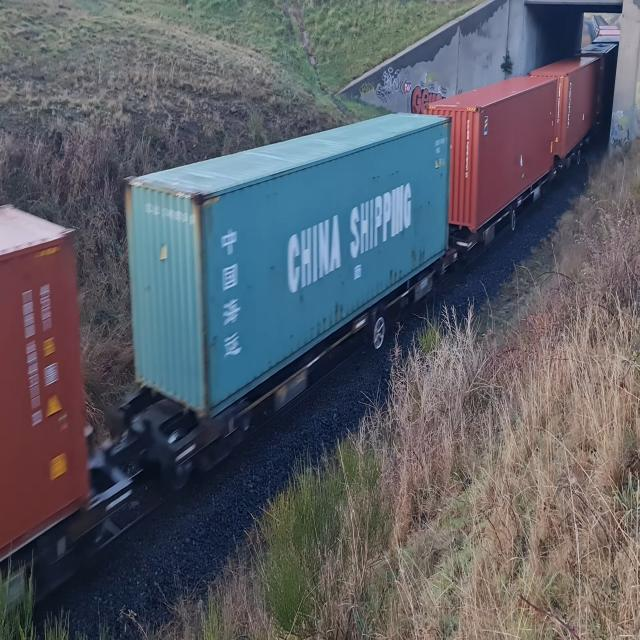container: (124, 101, 457, 434), (0, 193, 94, 582), (422, 72, 559, 237)
